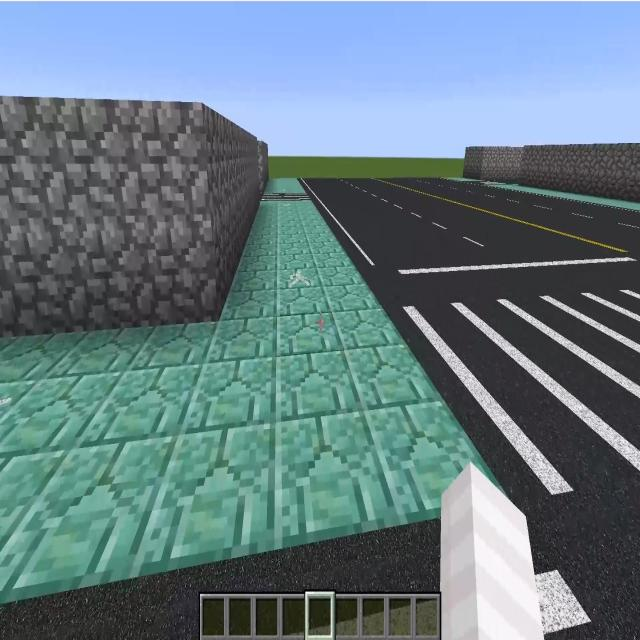crosswalk: (392, 272, 640, 510), (194, 502, 442, 639)
road: (300, 179, 636, 290)
sidewalk: (0, 194, 490, 615), (493, 183, 640, 210), (265, 178, 305, 193)
